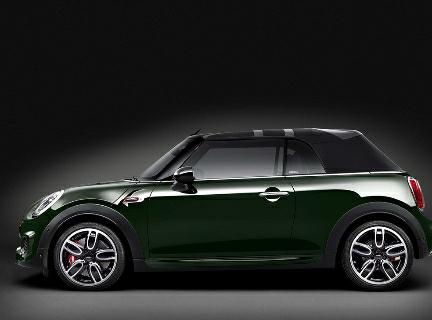MINI-JCW: (22, 124, 429, 289)
